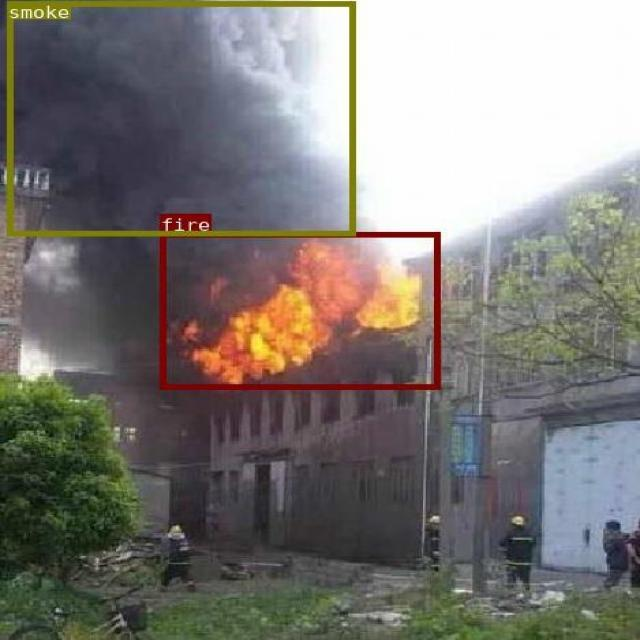fire: (159, 232, 439, 388)
smoke: (7, 1, 355, 235)
